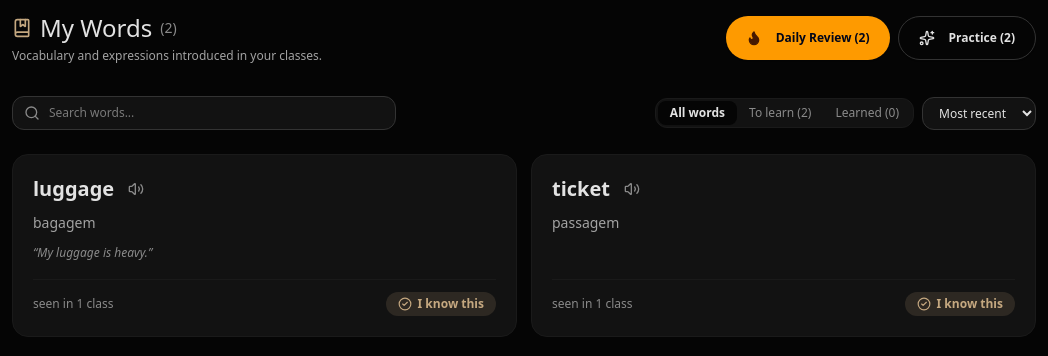
Test: StudentVocabularyTab (CA05, CA06, CA07, CT05, CT06, CT07) › moves word to Learned when clicking 'I know this' (CA06, CT06)
The image size is (1048, 356).
Check: the heading "luggage" is shown, box [33,175,114,203]
Click "I know this" on the first card
Click the button "I know this" below "My luggage is heavy.": [441, 304] box [386,292,496,316]
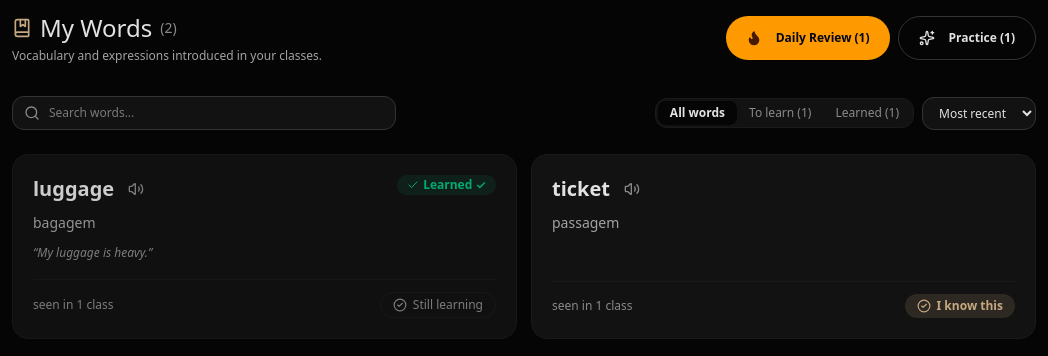
Filter by "Learned" tab
Click the button "Learned (1)": [867, 113] box [824,101,911,125]
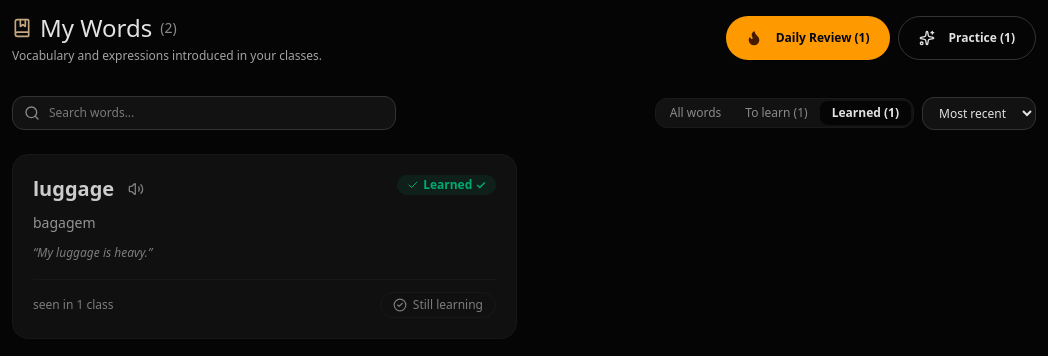
Check: the heading "luggage" is shown, box [33,175,114,203]
Check: the heading "ticket" is gone
